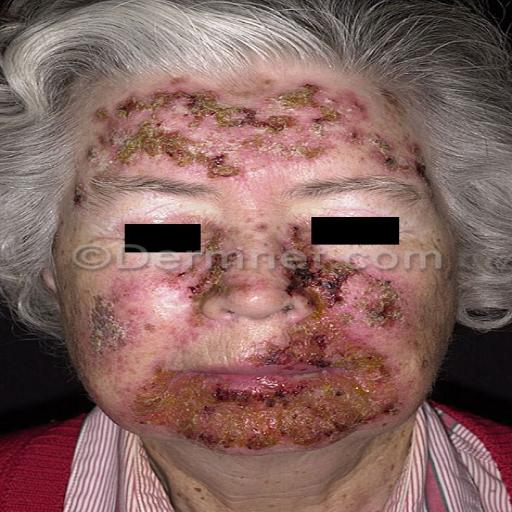Skin_Lesion: (80, 281, 144, 373), (118, 89, 267, 128), (121, 130, 242, 176), (274, 208, 318, 330), (274, 335, 378, 382), (241, 398, 350, 442), (140, 382, 230, 432), (282, 89, 345, 132), (370, 271, 408, 341), (363, 137, 409, 173), (195, 259, 235, 299), (329, 262, 353, 294)
